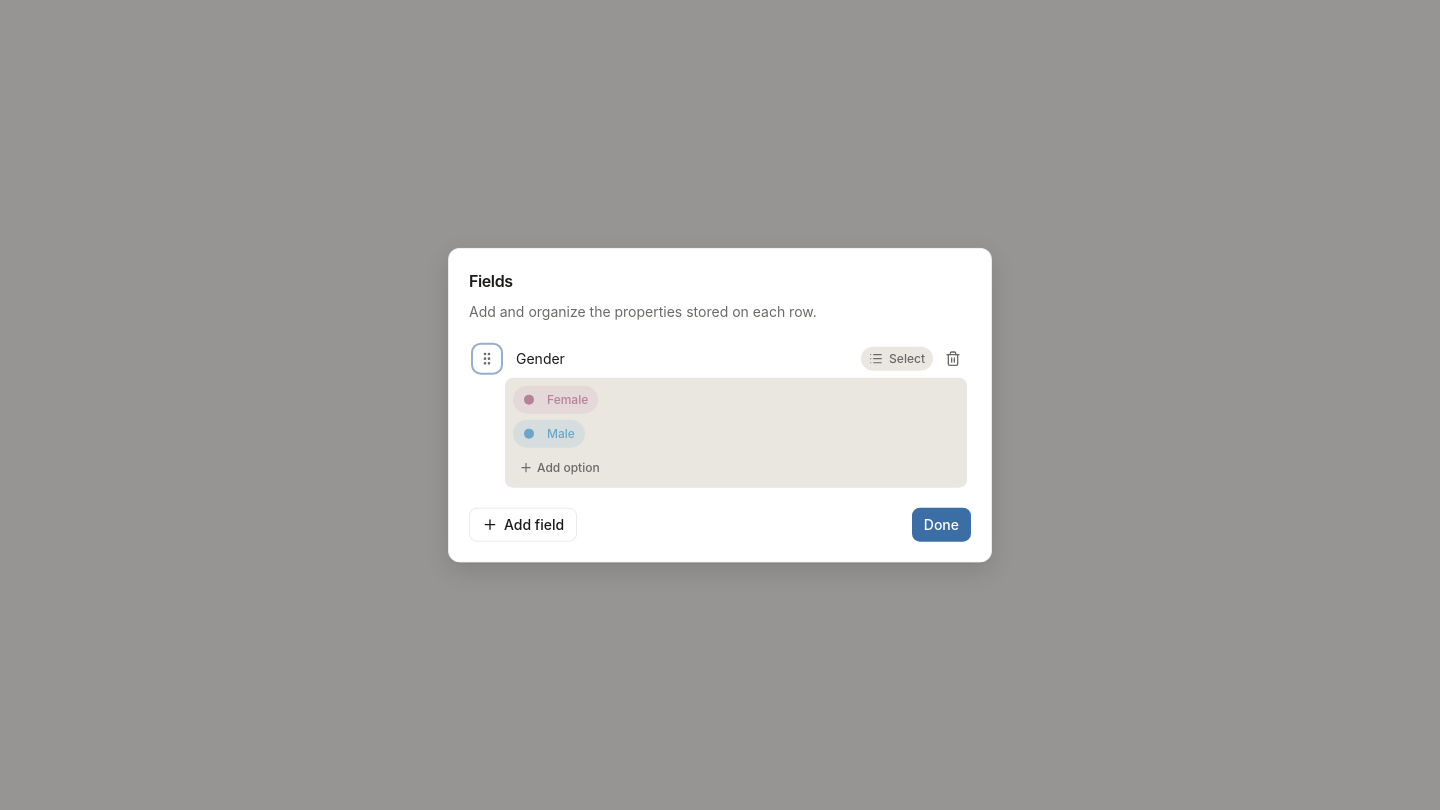
Scenario: FieldManager › cancels an option rename left blank, keeping the previous name
The width and height of the screenshot is (1440, 810).
Click the button with aria-label "Rename Female" at (568, 399), box [543,389,592,409]
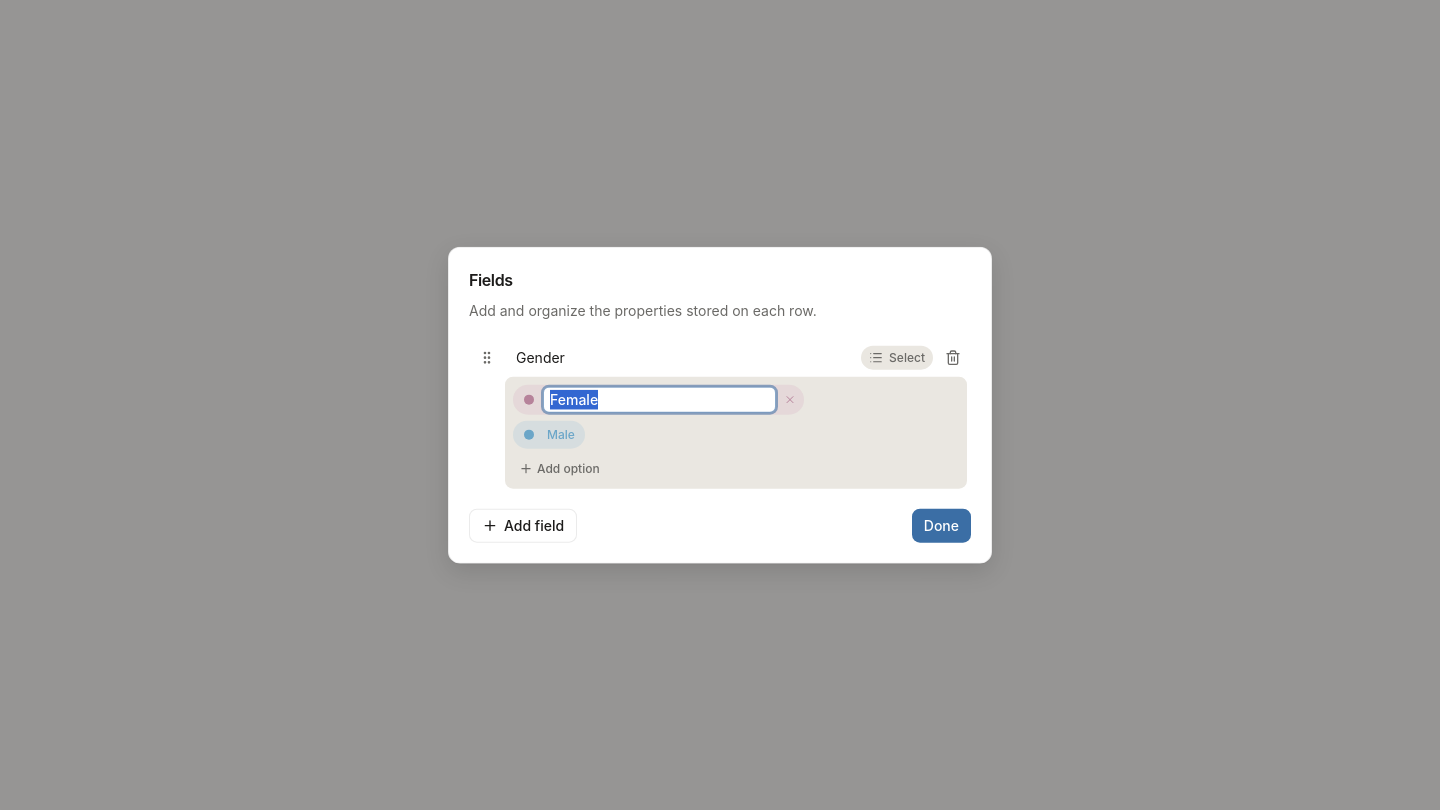
Clear the field named "Rename Female" at (660, 399), box [543,386,776,412]
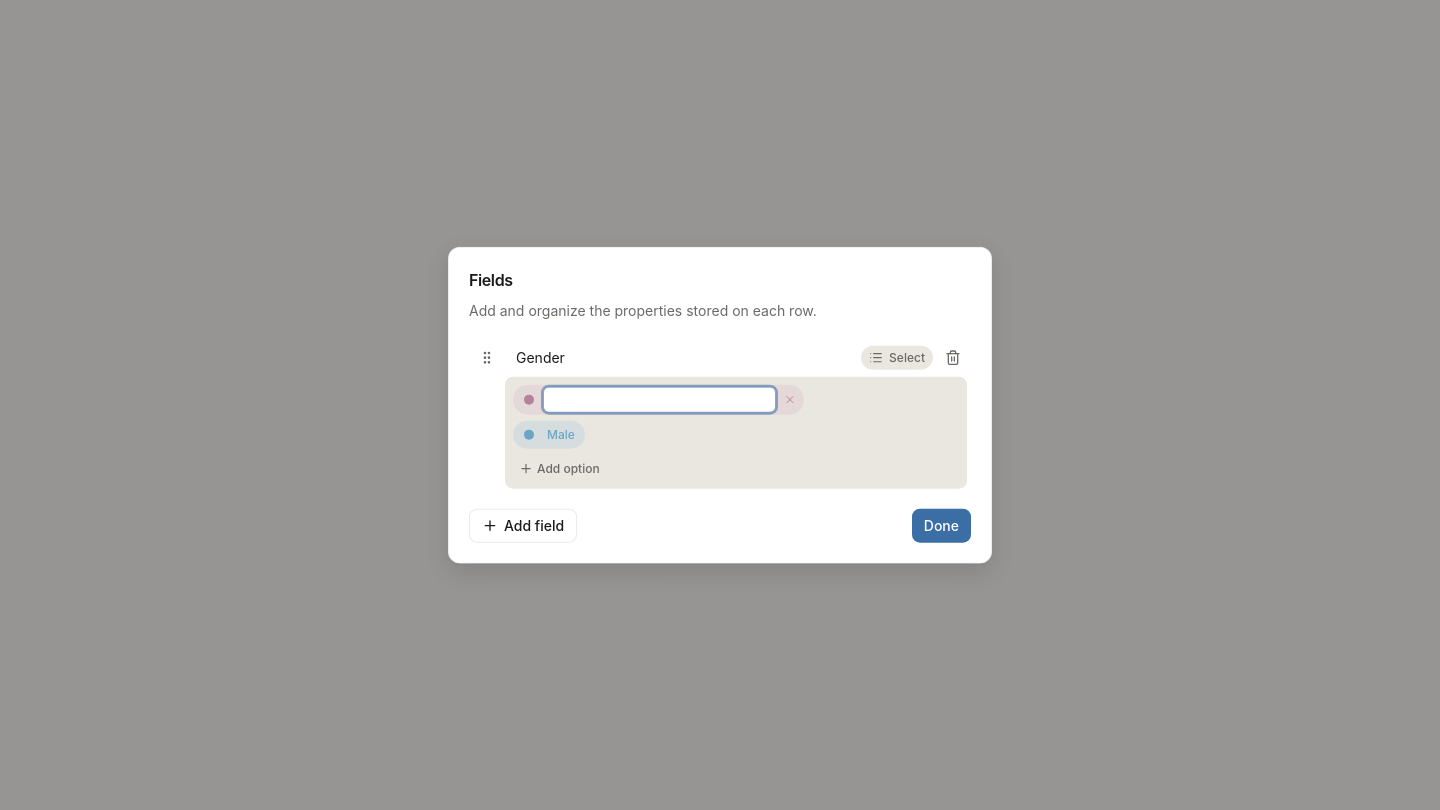
Press Enter
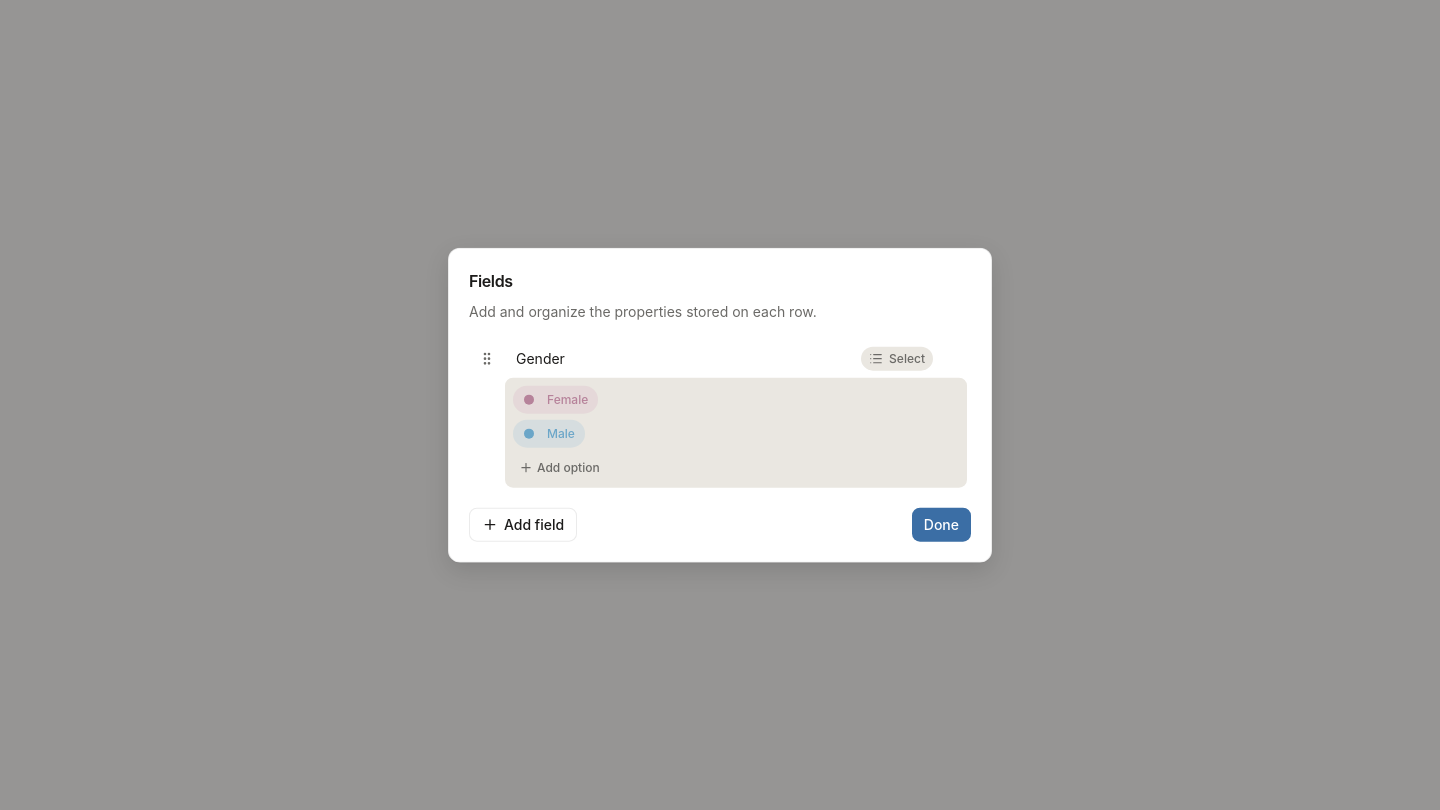
Result: the button with aria-label "Rename Female" is shown at [543,389,592,409]
